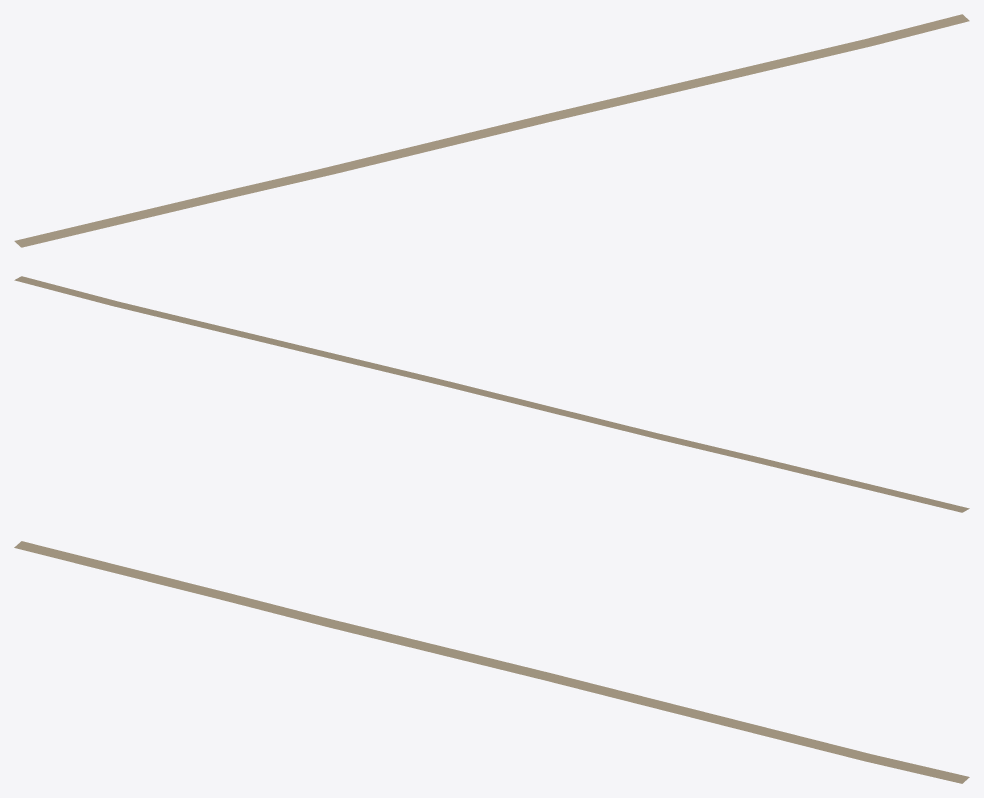
The model's file is farm_8_5_track.glb.
3 renders of one model, top to bottom at view 1: azimuth 30°, elevation 25°; view 2: azimuth 150°, elevation 25°; view 3: azimuth 330°, elevation 25°, orthographic.
Parts seen in each view (by area): view 1: geometry_0; view 2: geometry_0; view 3: geometry_0.
Boxes of the visible parts, x1=… form: geometry_0: x1=14, y1=14, x2=969, y2=247; geometry_0: x1=14, y1=276, x2=969, y2=512; geometry_0: x1=14, y1=541, x2=969, y2=783.
Size of the model in its own units: 237 by 1.1 by 4.57.
